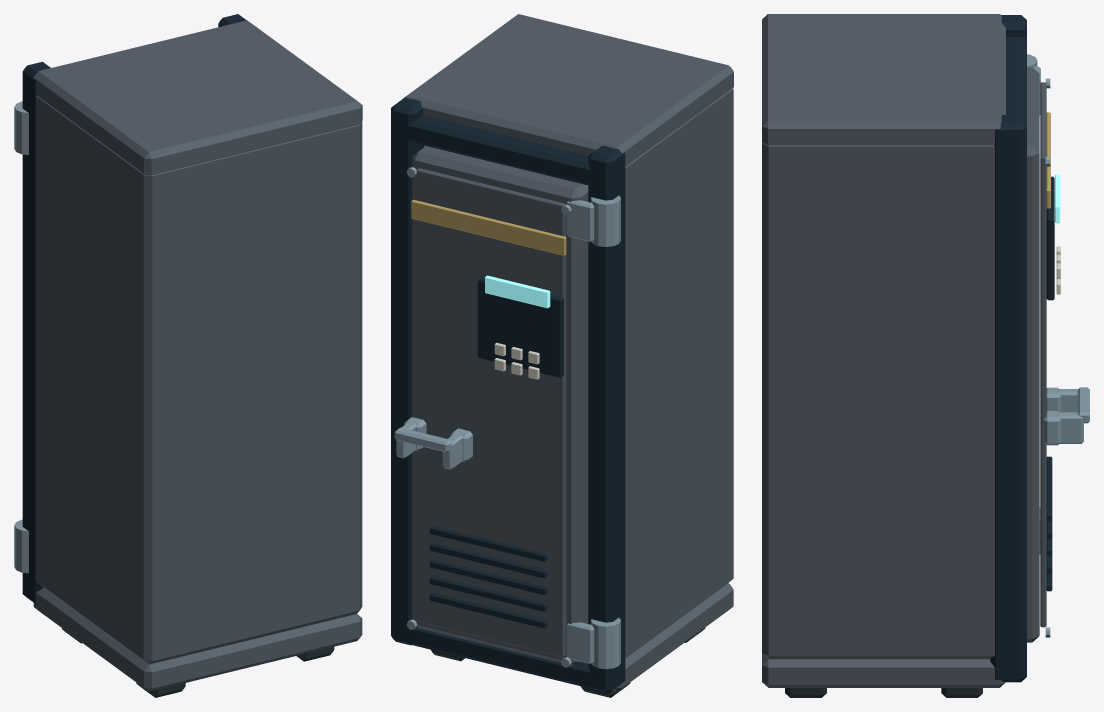
File: secure_equipment_locker.glb
The picture shows the model from 3 angles, left to right: view 1: azimuth 30°, elevation 25°; view 2: azimuth 150°, elevation 25°; view 3: azimuth 270°, elevation 25°; orthographic projection. The views are drawn at different scales.
Visible parts, largest first — view 1: body_back_wall, body_left_wall, body_roof, body_right_wall, body_floor, front_frame, hinge_pin (×2); view 2: body_left_wall, moving_front_inset, front_frame (×4), body_roof, moving_door, moving_control_panel, moving_vent (×5), moving_type_stripe, body_floor, hinge_pin (×2), body_back_wall, moving_hinge_leaf (×2) (+3 smaller); view 3: body_right_wall, body_roof, front_frame (×3), moving_door, body_floor, body_back_wall, moving_front_inset, moving_control_panel, moving_handle_right, moving_handle_mount_r.
Boxes of the visible parts, x1,y1,x2,y2 form: body_back_wall: [135, 125, 359, 663]; body_left_wall: [36, 95, 168, 664]; body_roof: [33, 20, 362, 175]; body_right_wall: [343, 122, 362, 614]; body_floor: [33, 587, 362, 691]; front_frame: [22, 61, 50, 603]; hinge_pin (×2): [14, 101, 28, 573]; body_left_wall: [625, 88, 733, 657]; moving_front_inset: [416, 168, 566, 657]; front_frame (×4): [391, 97, 625, 693]; body_roof: [405, 14, 733, 166]; moving_door: [412, 146, 588, 666]; moving_control_panel: [477, 277, 563, 377]; moving_vent (×5): [429, 526, 547, 628]; moving_type_stripe: [411, 199, 566, 255]; body_floor: [613, 583, 733, 691]; hinge_pin (×2): [591, 195, 620, 669]; body_back_wall: [723, 88, 733, 585]; moving_hinge_leaf (×2): [567, 200, 594, 663]; body_right_wall: [762, 143, 994, 659]; body_roof: [762, 14, 1005, 145]; front_frame (×3): [990, 15, 1026, 682]; moving_door: [1027, 67, 1039, 642]; body_floor: [762, 653, 1005, 687]; body_back_wall: [762, 143, 788, 659]; moving_front_inset: [1040, 82, 1046, 627]; moving_control_panel: [1046, 176, 1054, 300]; moving_handle_right: [1058, 412, 1083, 443]; moving_handle_mount_r: [1043, 411, 1061, 445].
Size of the model in its own units: 0.7865 by 1.85 by 0.9405.
